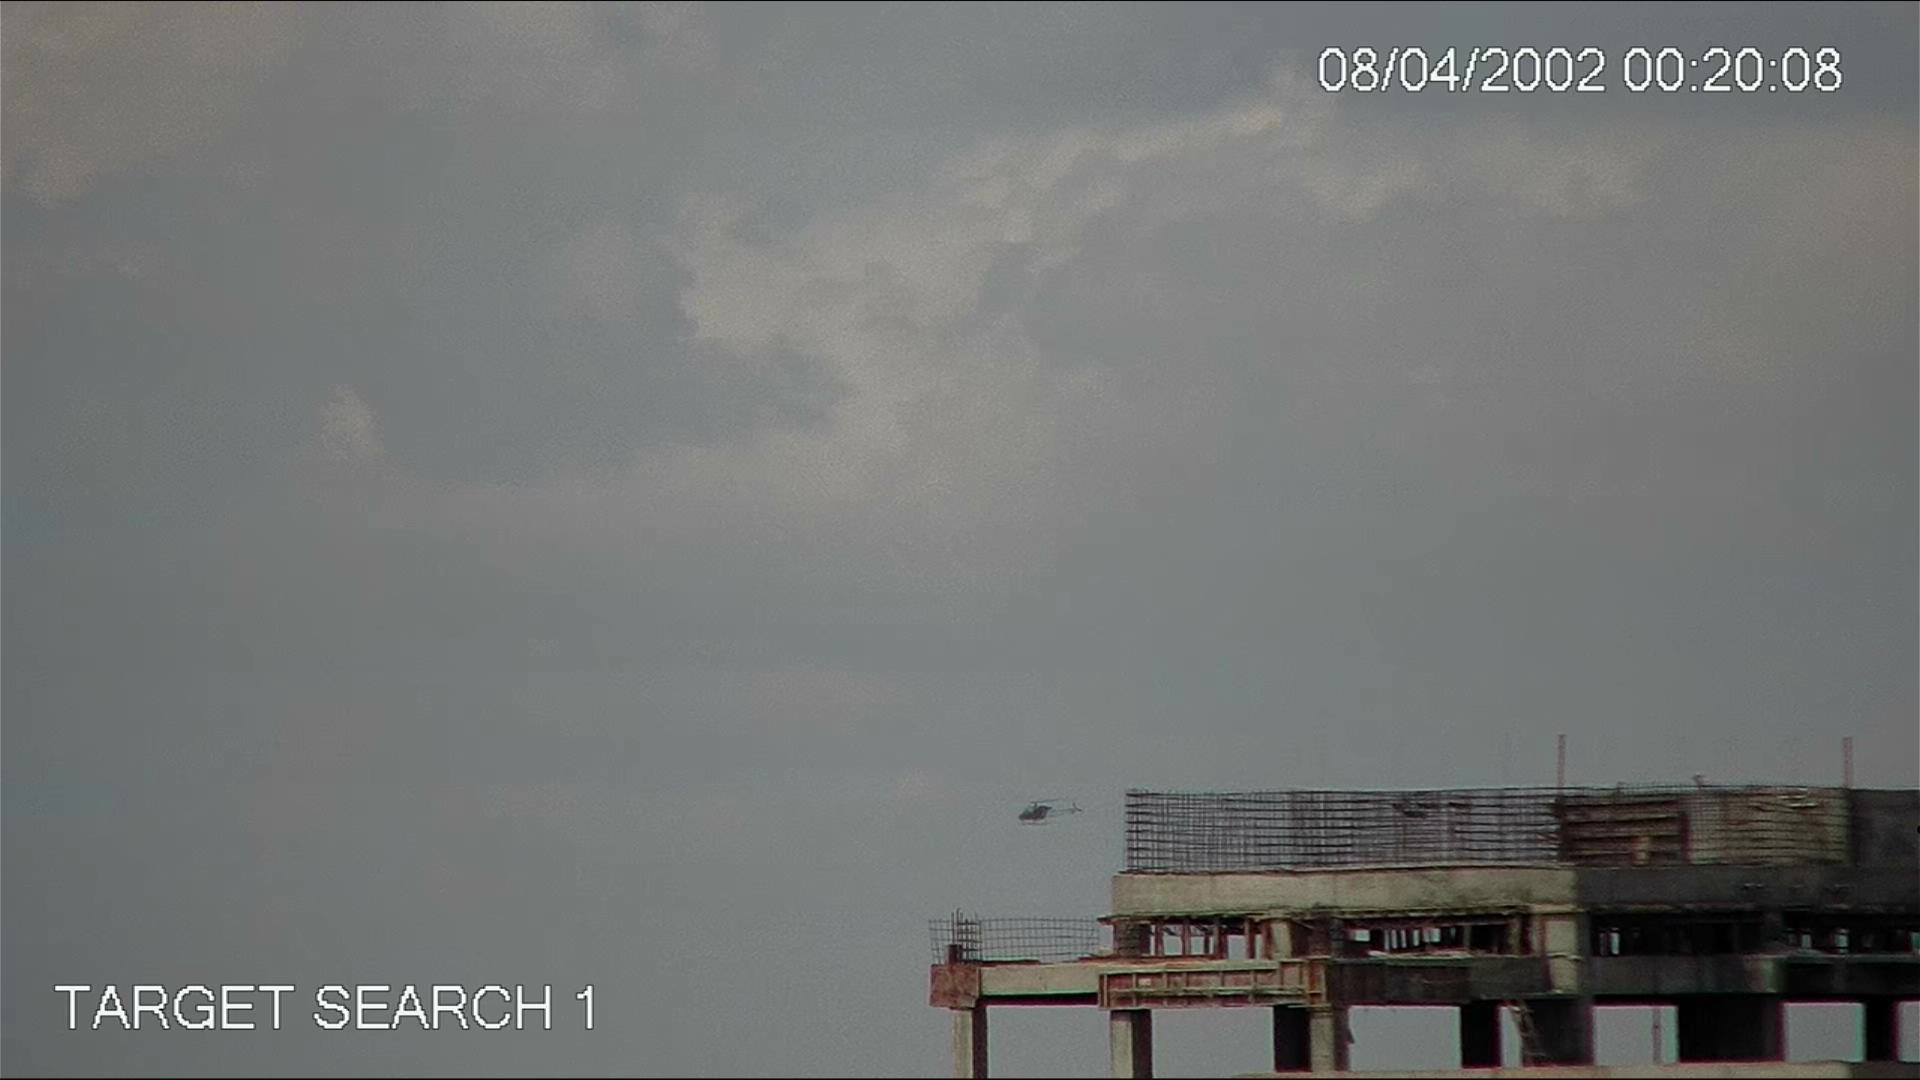SU_30: (1013, 794, 1085, 829)
